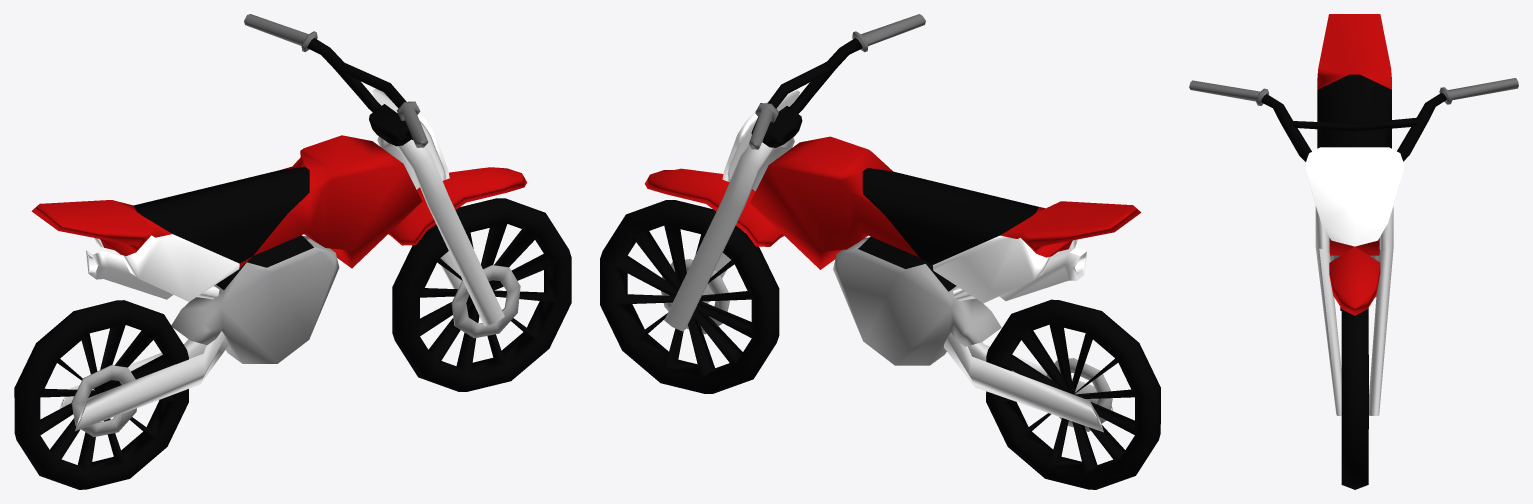
Rendered from DirtBike250ccRed.glb.
The picture shows the model from 3 angles, left to right: view 1: azimuth 30°, elevation 25°; view 2: azimuth 150°, elevation 25°; view 3: azimuth 270°, elevation 25°; orthographic projection. The views are drawn at different scales.
Parts seen in each view (by area): view 1: DirtBike250ccRed; view 2: DirtBike250ccRed; view 3: DirtBike250ccRed.
Boxes of the visible parts, left/top/right/bottom form: DirtBike250ccRed: left=14, top=14, right=571, bottom=489; DirtBike250ccRed: left=600, top=14, right=1160, bottom=489; DirtBike250ccRed: left=1189, top=14, right=1518, bottom=489.
Size of the model in its own units: 2.46 by 1.49 by 1.33.
1 material, 1 textured.
